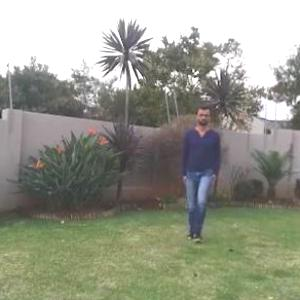follow: (179, 102, 219, 236)
